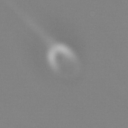normal: (5, 1, 55, 44)
